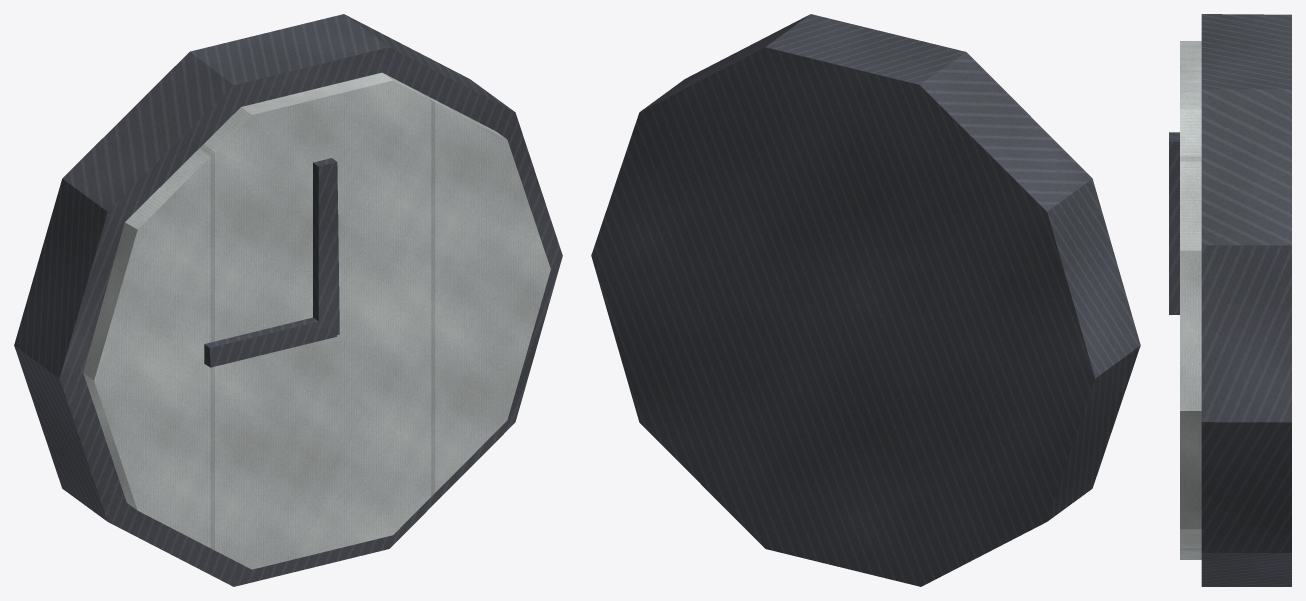
Rendered from wallclock_v4.glb.
3 views of the same model, side by side, from view 1: azimuth 30°, elevation 25°; view 2: azimuth 150°, elevation 25°; view 3: azimuth 270°, elevation 25° (orthographic).
Parts seen in each view (by area): view 1: Variant_wallclock_4; view 2: Variant_wallclock_4; view 3: Variant_wallclock_4.
Part boxes in pixels (x1=…): Variant_wallclock_4: x1=14, y1=14, x2=562, y2=586; Variant_wallclock_4: x1=591, y1=14, x2=1140, y2=586; Variant_wallclock_4: x1=1169, y1=14, x2=1291, y2=586.
Bounding box in the file's own units: 0.32 × 0.3043 × 0.068.
2 materials, 2 textured.
